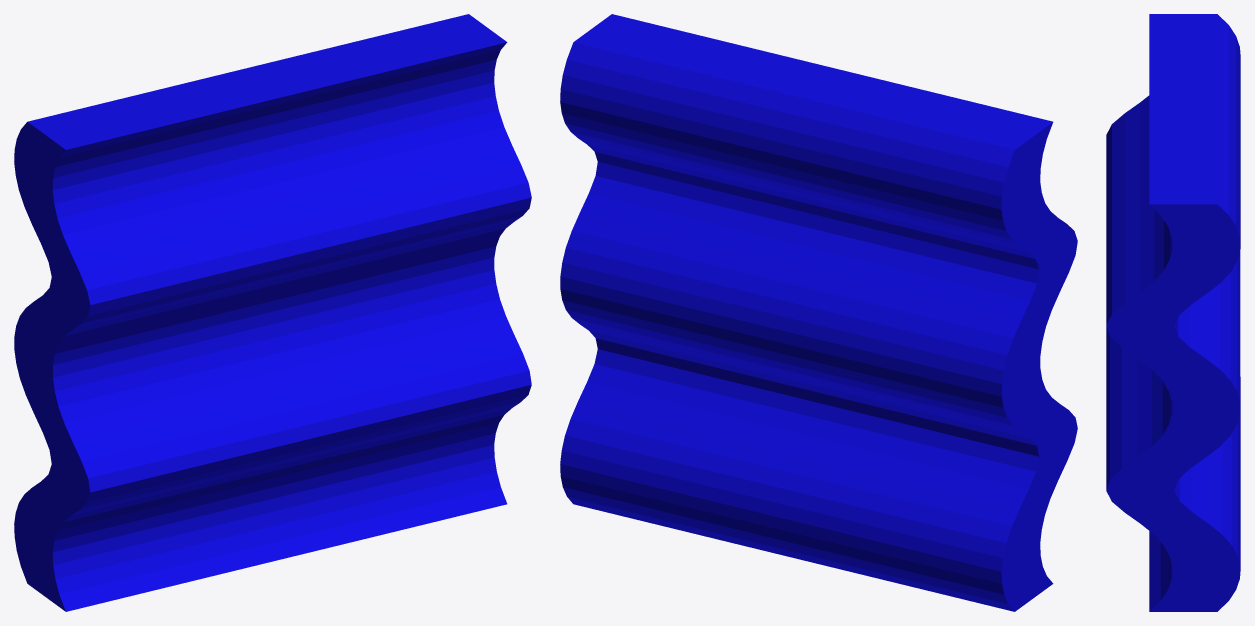
Rendered from wave_test.glb.
The picture shows the model from 3 angles, left to right: view 1: azimuth 30°, elevation 25°; view 2: azimuth 150°, elevation 25°; view 3: azimuth 270°, elevation 25°; orthographic projection. The views are drawn at different scales.
Parts seen in each view (by area): view 1: Cube; view 2: Cube; view 3: Cube.
Boxes of the visible parts, left/top/right/bottom form: Cube: left=14, top=14, right=531, bottom=611; Cube: left=560, top=14, right=1077, bottom=611; Cube: left=1106, top=14, right=1240, bottom=611.
Bounding box in the file's own units: 13.2 × 13.2 × 3.95.
